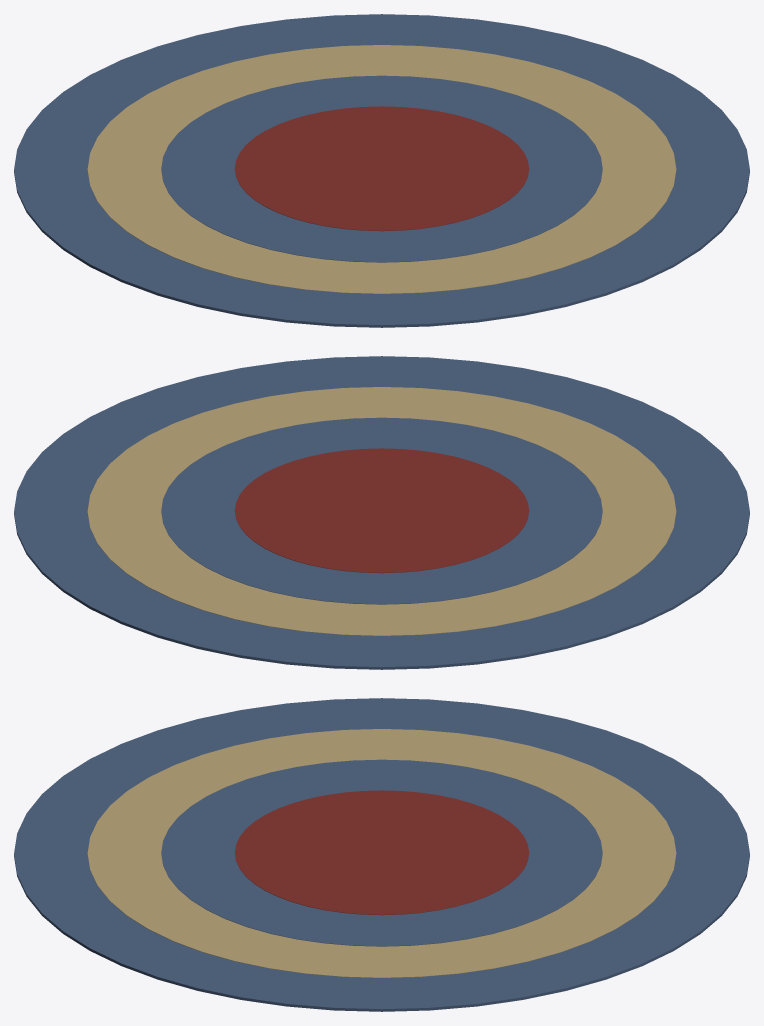
The model's file is rug_round.glb.
The picture shows the model from 3 angles, top to bottom: view 1: azimuth 30°, elevation 25°; view 2: azimuth 150°, elevation 25°; view 3: azimuth 270°, elevation 25°; orthographic projection.
Visible parts, largest first — view 1: rug_round; view 2: rug_round; view 3: rug_round.
Boxes of the visible parts, bbox=[...] form: rug_round: bbox=[14, 14, 749, 327]; rug_round: bbox=[14, 356, 749, 669]; rug_round: bbox=[14, 698, 749, 1011].
Bounding box in the file's own units: 2 × 0.011 × 2.
